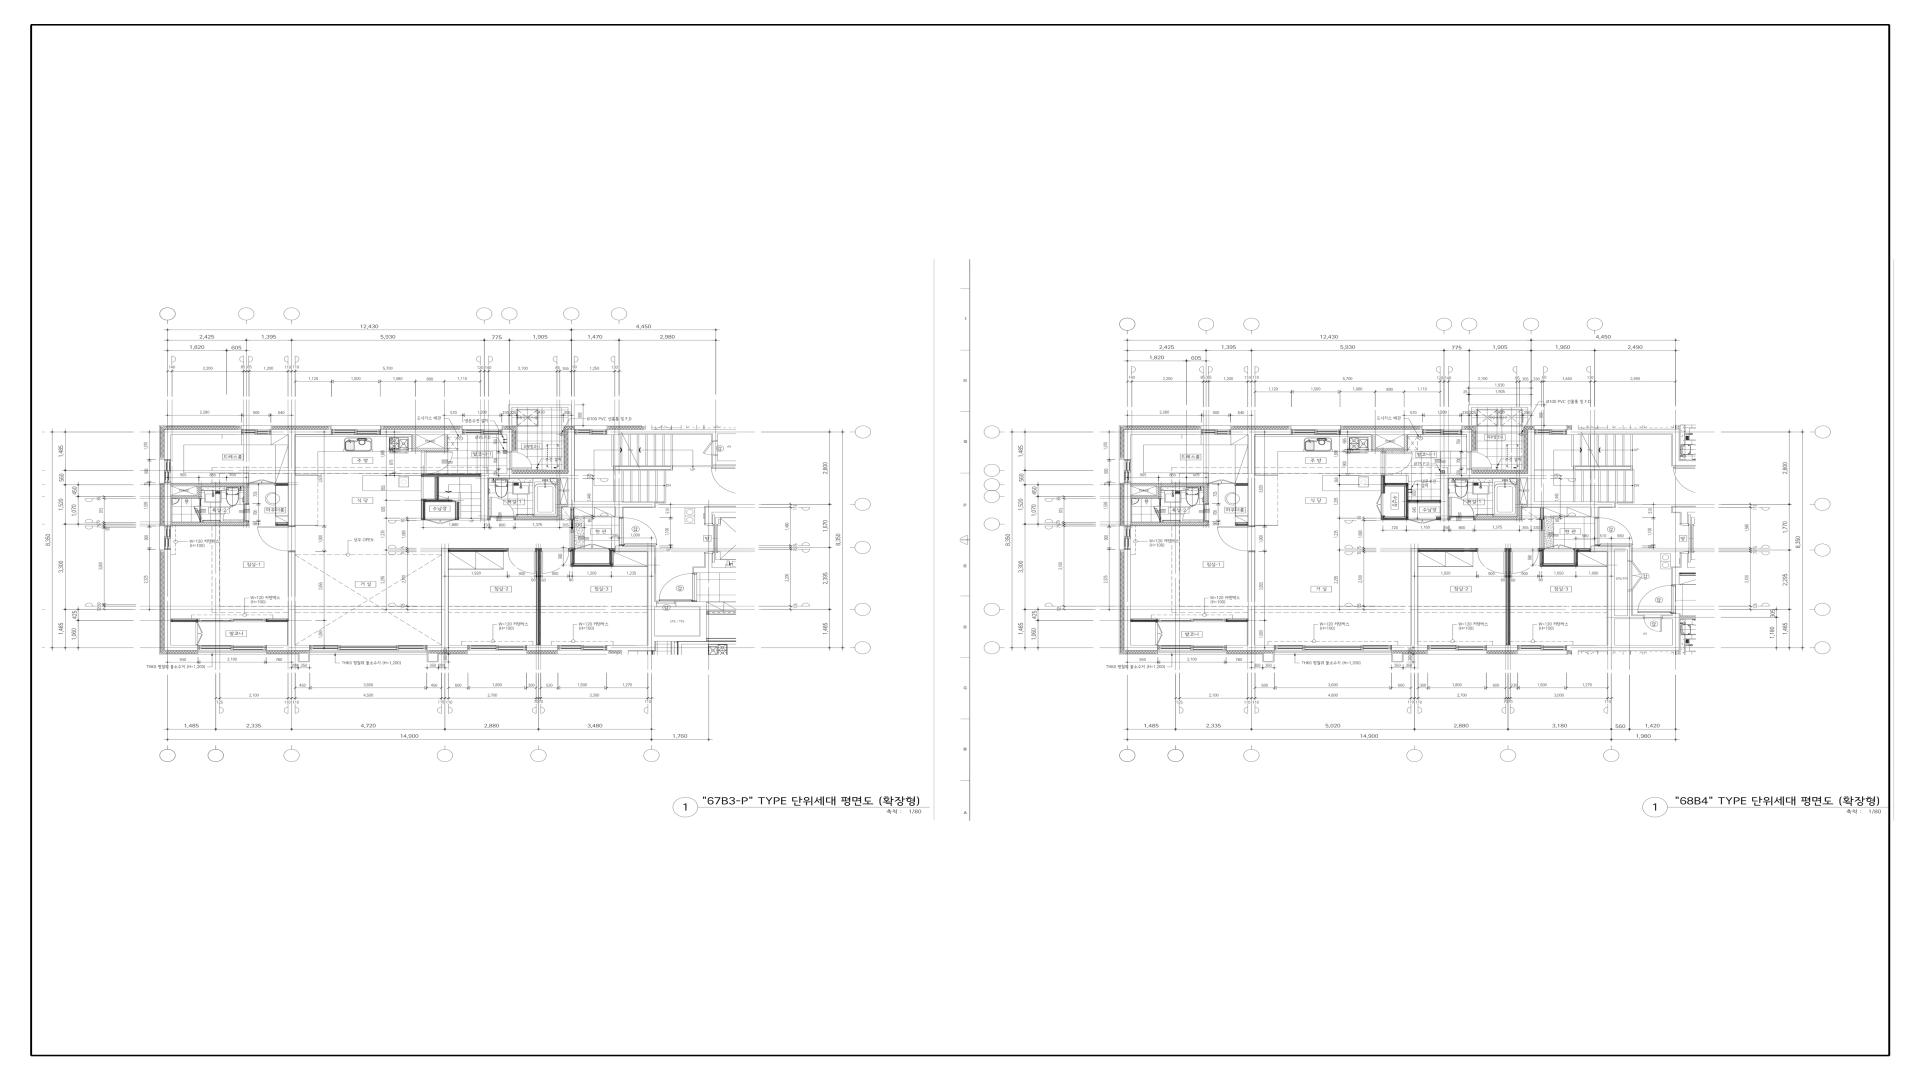door: (1595, 517, 1633, 546), (619, 517, 657, 546), (659, 573, 697, 602), (258, 526, 295, 552), (1217, 527, 1255, 552), (507, 548, 536, 574), (541, 548, 570, 574), (1381, 452, 1413, 475), (1511, 548, 1539, 574), (421, 451, 452, 474), (1477, 548, 1505, 573), (489, 497, 515, 520), (223, 503, 249, 522), (1449, 499, 1472, 520), (1467, 451, 1492, 470), (507, 451, 532, 470), (1183, 504, 1209, 521), (1155, 622, 1163, 645), (195, 622, 203, 645), (425, 518, 455, 524), (248, 480, 275, 486), (1539, 519, 1544, 549), (570, 519, 575, 549), (656, 602, 676, 607), (194, 506, 201, 520)
wall: (615, 546, 656, 651), (164, 550, 198, 651), (607, 429, 736, 440), (676, 602, 707, 636), (694, 554, 736, 573), (287, 552, 295, 645), (1124, 549, 1131, 651), (1411, 548, 1418, 645), (442, 548, 449, 645), (1248, 552, 1255, 645), (1608, 552, 1615, 645), (1248, 435, 1255, 527), (288, 435, 295, 526), (1567, 429, 1671, 435), (567, 429, 575, 507), (1528, 429, 1535, 507), (705, 507, 736, 524), (1340, 429, 1423, 435), (381, 429, 463, 435), (1506, 548, 1511, 645), (1124, 429, 1201, 435), (171, 429, 241, 435), (1534, 502, 1616, 507), (575, 502, 655, 507), (271, 429, 331, 435), (1231, 429, 1291, 435), (1441, 474, 1528, 478), (481, 474, 568, 478), (655, 636, 707, 642), (1131, 522, 1208, 526), (1131, 483, 1208, 487), (1124, 483, 1131, 526), (164, 483, 171, 526), (536, 548, 539, 645), (1567, 645, 1615, 651), (1226, 645, 1274, 651), (267, 645, 310, 651), (1671, 429, 1679, 461), (481, 478, 487, 520), (1441, 478, 1447, 520), (607, 645, 648, 651), (1418, 548, 1477, 552), (171, 522, 248, 525), (502, 429, 512, 451), (1392, 645, 1428, 651), (575, 544, 610, 550), (164, 429, 171, 459), (713, 456, 736, 465), (427, 645, 468, 650), (1486, 645, 1518, 651), (1468, 405, 1531, 408), (527, 645, 558, 651), (1472, 516, 1517, 520), (1124, 435, 1131, 460), (1671, 506, 1696, 513), (1517, 477, 1521, 520), (1131, 645, 1158, 651), (171, 484, 248, 486), (1592, 546, 1615, 552), (1671, 461, 1695, 466), (448, 548, 507, 550), (1467, 429, 1472, 451), (1406, 483, 1409, 518), (415, 448, 447, 451), (1131, 495, 1160, 498), (515, 517, 558, 519), (1203, 487, 1208, 504), (1131, 619, 1158, 622), (453, 500, 457, 520), (171, 495, 197, 498), (1371, 449, 1408, 451), (1591, 507, 1598, 517), (1468, 408, 1472, 425), (1408, 500, 1441, 502), (1543, 565, 1576, 567), (1226, 619, 1248, 622), (421, 475, 481, 476), (616, 507, 622, 517), (1381, 518, 1409, 520), (1371, 435, 1375, 449), (1404, 435, 1408, 449), (1528, 407, 1531, 425), (558, 478, 560, 504), (1615, 547, 1632, 550), (245, 486, 248, 503), (1540, 507, 1544, 519), (435, 476, 437, 500), (612, 550, 615, 566), (412, 435, 415, 451), (1385, 483, 1406, 485), (444, 435, 447, 449), (421, 500, 423, 520), (1235, 483, 1248, 486), (558, 507, 561, 520), (1236, 523, 1248, 526), (1383, 475, 1385, 493), (1541, 549, 1543, 567), (574, 564, 610, 565), (197, 486, 200, 498), (570, 550, 572, 567), (1576, 550, 1592, 552), (1576, 552, 1578, 567), (1462, 429, 1467, 435), (558, 504, 567, 507), (171, 619, 198, 620), (1157, 486, 1160, 495), (571, 507, 573, 519), (1255, 525, 1278, 526), (1255, 475, 1278, 476), (266, 619, 288, 620), (1521, 504, 1528, 507), (1467, 470, 1472, 474), (507, 470, 512, 474), (1159, 498, 1161, 506), (1436, 517, 1441, 520), (421, 499, 435, 500), (275, 483, 288, 484), (275, 523, 288, 524), (200, 498, 201, 506), (1172, 526, 1179, 527), (1381, 516, 1384, 518), (1447, 517, 1449, 520), (1381, 451, 1386, 452), (1204, 521, 1208, 522), (1539, 550, 1542, 551), (200, 520, 201, 522), (1203, 504, 1208, 504)
window: (309, 645, 427, 651), (1274, 645, 1392, 650), (198, 645, 267, 651), (1158, 645, 1226, 651), (1428, 645, 1487, 651), (468, 645, 527, 651), (331, 429, 381, 435), (1518, 645, 1567, 651), (1291, 429, 1340, 435), (558, 645, 607, 651), (1422, 429, 1462, 435), (462, 429, 502, 435), (1158, 619, 1226, 622), (198, 619, 266, 622), (1535, 429, 1567, 435), (575, 429, 607, 435), (1201, 429, 1231, 435), (241, 429, 271, 435), (164, 459, 171, 483), (164, 526, 171, 550), (1124, 526, 1131, 549), (1124, 460, 1131, 483)
